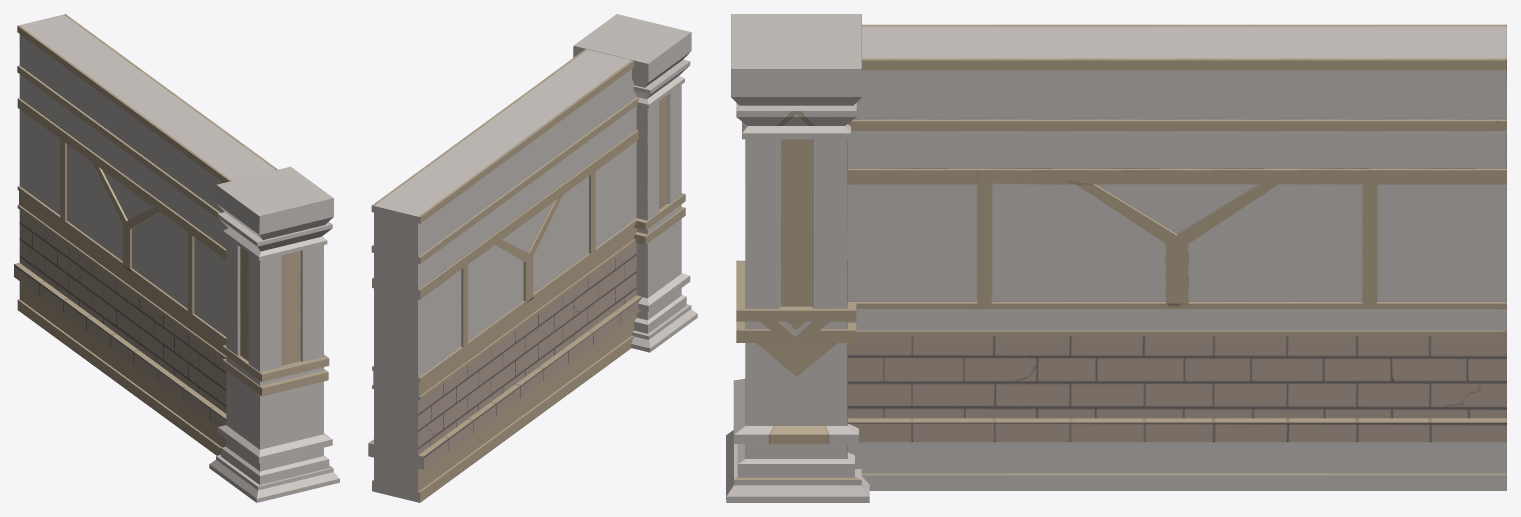
Rendered from Wall.fbx.
The picture shows the model from 3 angles, left to right: view 1: azimuth 30°, elevation 25°; view 2: azimuth 150°, elevation 25°; view 3: azimuth 270°, elevation 25°; orthographic projection. The views are drawn at different scales.
Visible parts, largest first — view 1: Cube, tiang kecil.kiri.001; view 2: Cube, tiang kecil.kiri.001; view 3: Cube, tiang kecil.kiri.001.
Boxes of the visible parts, box(x1,y1,x2,y2) form: Cube: box(14, 14, 277, 455); tiang kecil.kiri.001: box(209, 166, 339, 502); Cube: box(368, 49, 641, 502); tiang kecil.kiri.001: box(573, 14, 697, 352); Cube: box(847, 24, 1506, 490); tiang kecil.kiri.001: box(726, 14, 869, 502).
Size of the model in its own units: 110 by 360 by 591.
